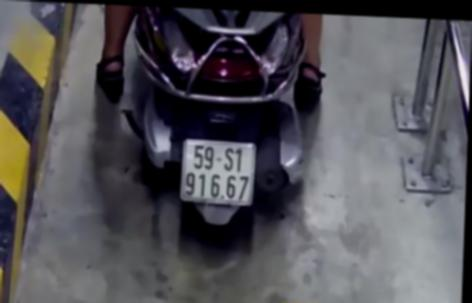License_Plate: (175, 137, 265, 215)
